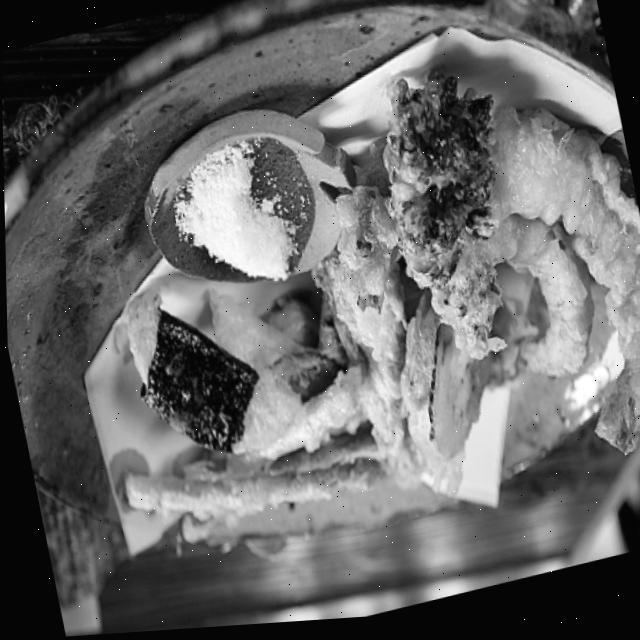蔬菜料理: (43, 16, 640, 599)
